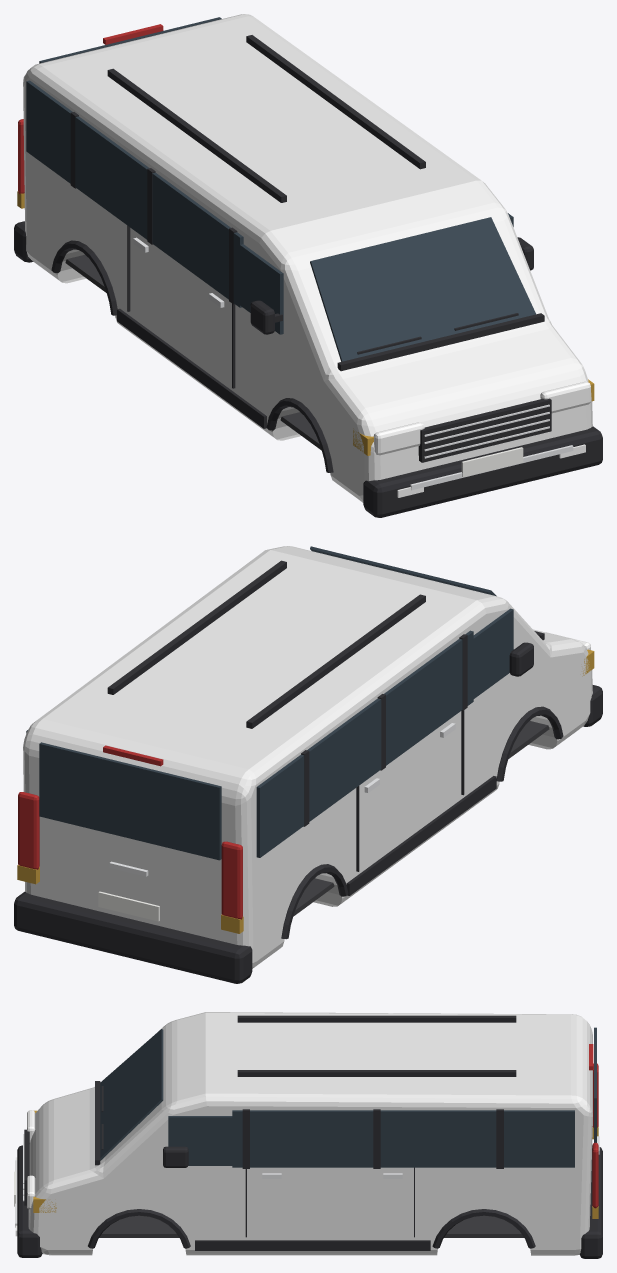
File: van.glb
3 views of the same model, one above another, from view 1: azimuth 30°, elevation 25°; view 2: azimuth 150°, elevation 25°; view 3: azimuth 270°, elevation 25° (orthographic). The views are drawn at different scales.
Visible parts, largest first — view 1: v_vanpaint, v_vanglass, v_vantrim, v_vanhl, v_vanchrome, v_vandash, v_vanplate, v_vantl; view 2: v_vanpaint, v_vanglass, v_vantrim, v_vantl, v_vandash, v_vanplate, v_vanam; view 3: v_vanpaint, v_vanglass, v_vantrim, v_vandash, v_vantl, v_vanchrome, v_vanhl, v_vanam.
Part boxes in pixels (box(x1,y1,x2,y2)): v_vanpaint: box(23, 14, 592, 502); v_vanglass: box(26, 17, 535, 361); v_vantrim: box(14, 35, 602, 517); v_vanhl: box(373, 381, 590, 497); v_vanchrome: box(133, 237, 573, 490); v_vandash: box(65, 254, 321, 450); v_vanplate: box(461, 447, 523, 477); v_vantl: box(18, 24, 163, 194); v_vanpaint: box(23, 546, 592, 968); v_vanglass: box(26, 546, 513, 860); v_vantrim: box(14, 560, 602, 983); v_vantl: box(18, 745, 242, 919); v_vandash: box(293, 721, 549, 916); v_vanplate: box(98, 891, 159, 921); v_vanam: box(17, 649, 594, 933); v_vanpaint: box(28, 1012, 592, 1255); v_vanglass: box(100, 1027, 596, 1167); v_vantrim: box(17, 1015, 602, 1258); v_vandash: box(99, 1215, 523, 1237); v_vantl: box(589, 1044, 598, 1208); v_vanchrome: box(15, 1134, 599, 1227); v_vanhl: box(15, 1110, 35, 1236); v_vanam: box(33, 1110, 598, 1218).
Size of the model in its own units: 2.34 by 1.78 by 5.5.
